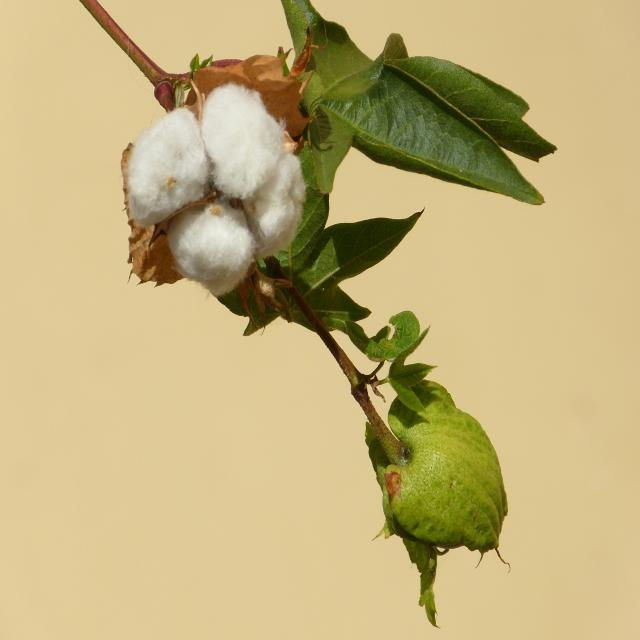Early_blight: (126, 82, 308, 296)
